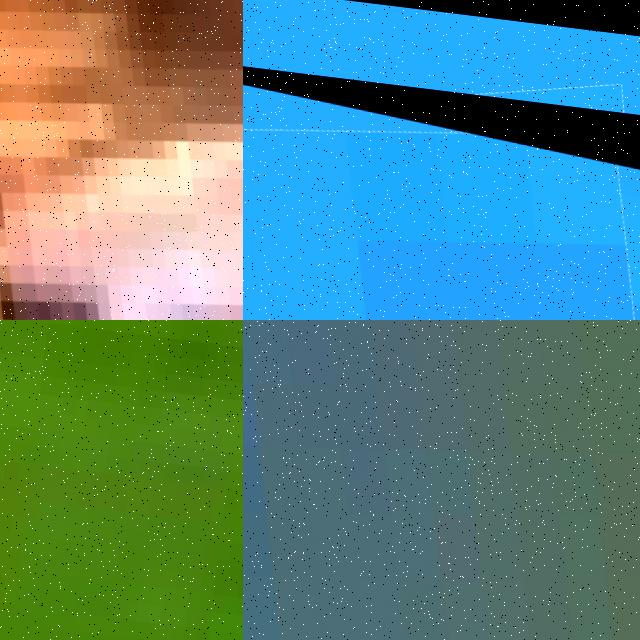drone: (243, 320, 640, 640), (243, 40, 640, 320), (0, 0, 243, 320)
